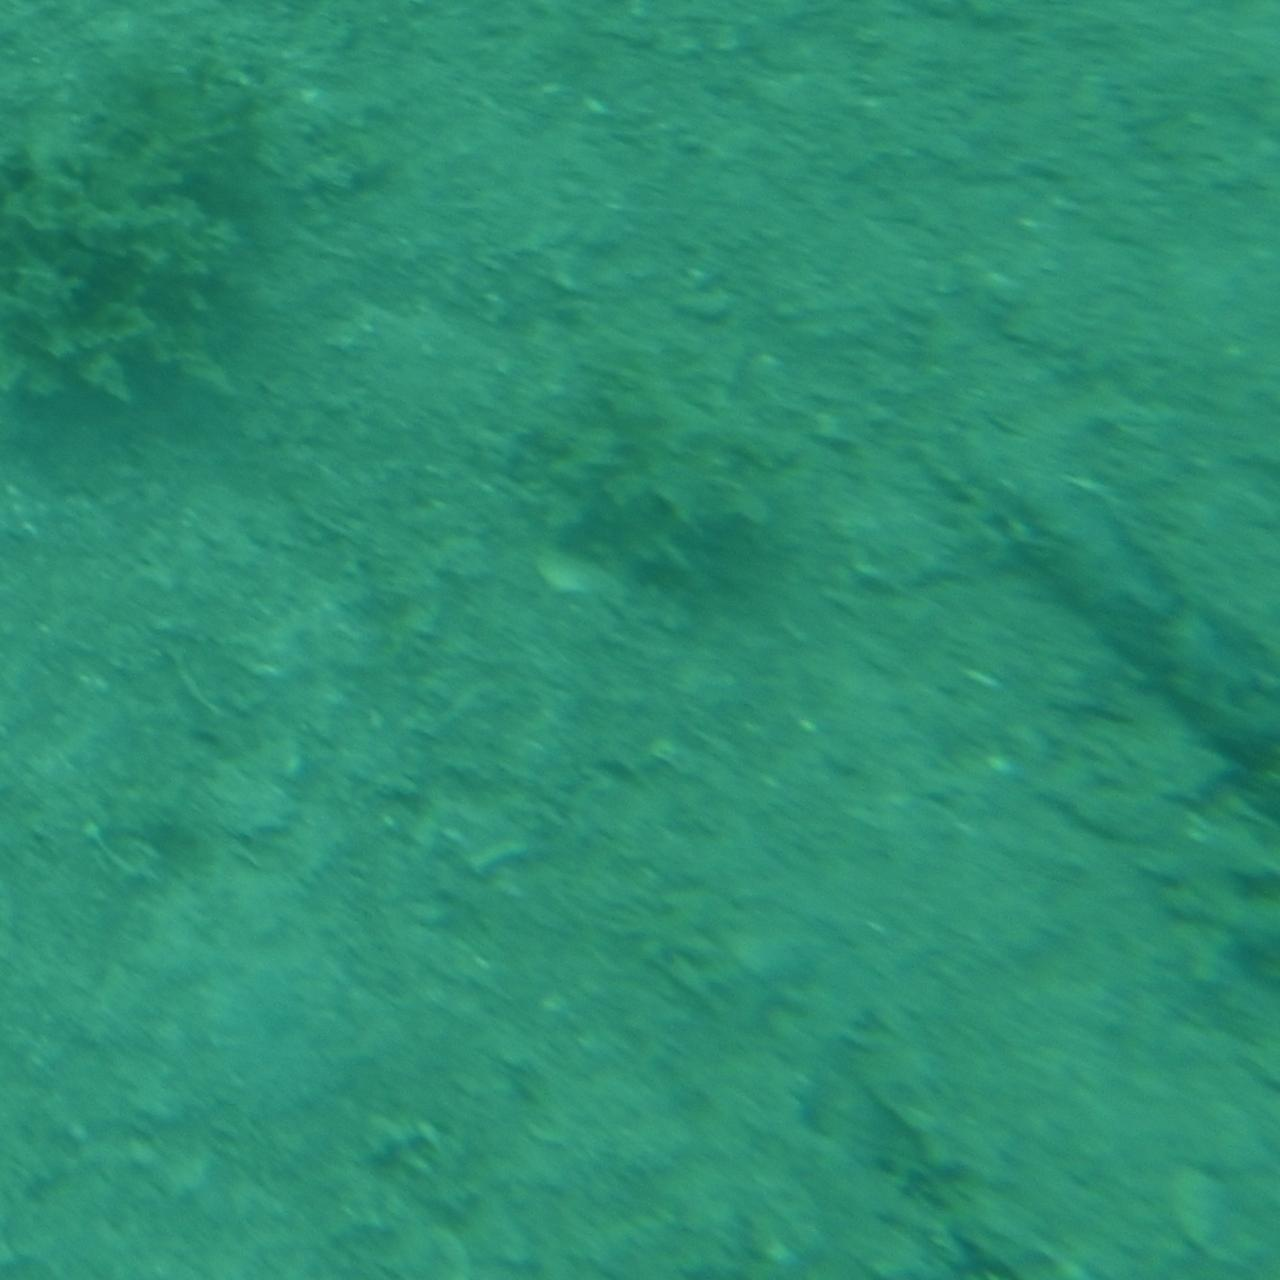Holothuria tubulosa: (951, 440, 1276, 840)
